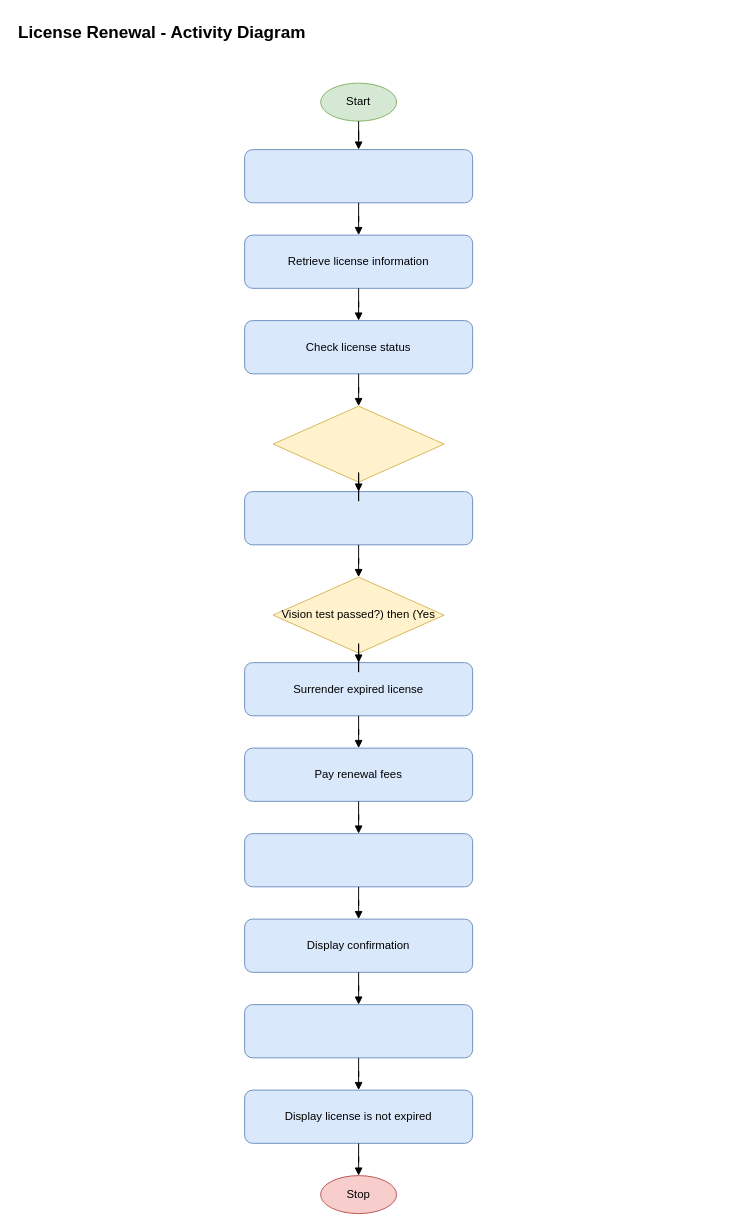
This 754x1230 diagram has some shape labels left out. The shapes that lost their labels are listed below. From the top down, each one's centre as x and y in pixels, then its label:
point (358, 176): Enter license number
point (358, 443): License expired?) then (Yes
point (358, 518): Schedule vision test
point (358, 860): Renew driving license
point (358, 1031): Reject renewal until vision test is passed
